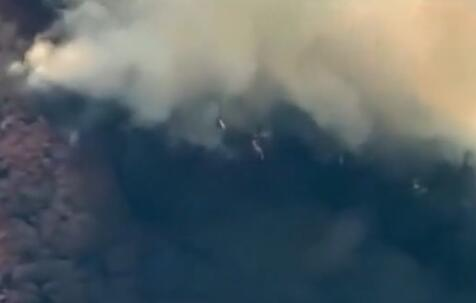smoke: (2, 0, 475, 157)
